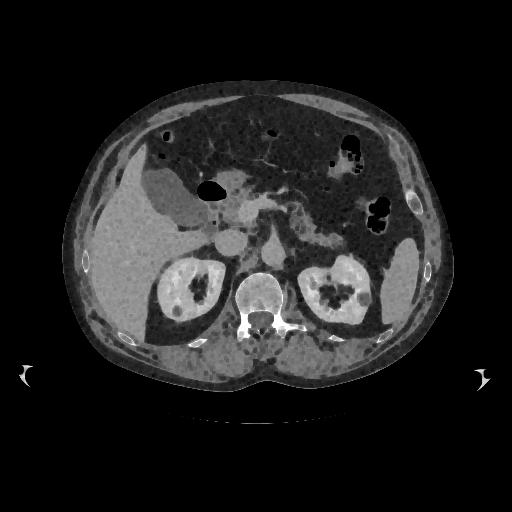Lesion: (354, 290, 375, 308)
